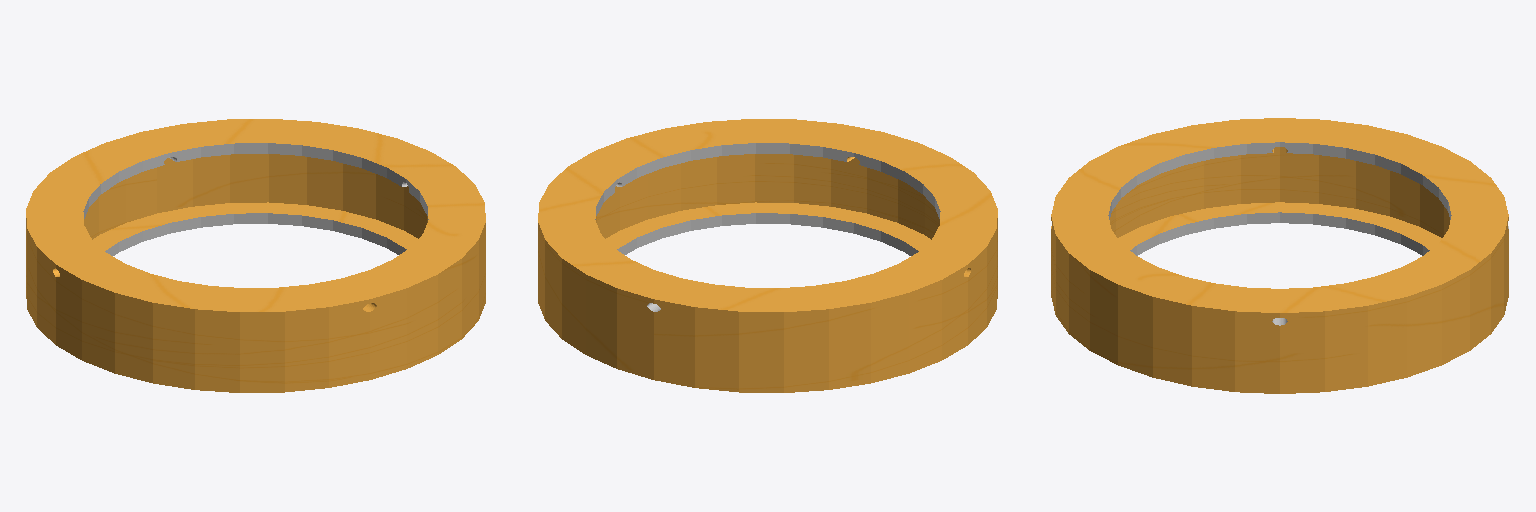
3 views of the same model, side by side, from view 1: azimuth 30°, elevation 25°; view 2: azimuth 150°, elevation 25°; view 3: azimuth 270°, elevation 25° (orthographic).
Visible parts, largest first — view 1: 円柱; view 2: 円柱; view 3: 円柱.
Boxes of the visible parts, <box> form: 円柱: <box>26,119,485,392</box>; 円柱: <box>538,119,997,392</box>; 円柱: <box>1051,118,1508,393</box>.
Bounding box in the file's own units: 113 × 21.76 × 112.
Materials: 2 (1 with a texture image).